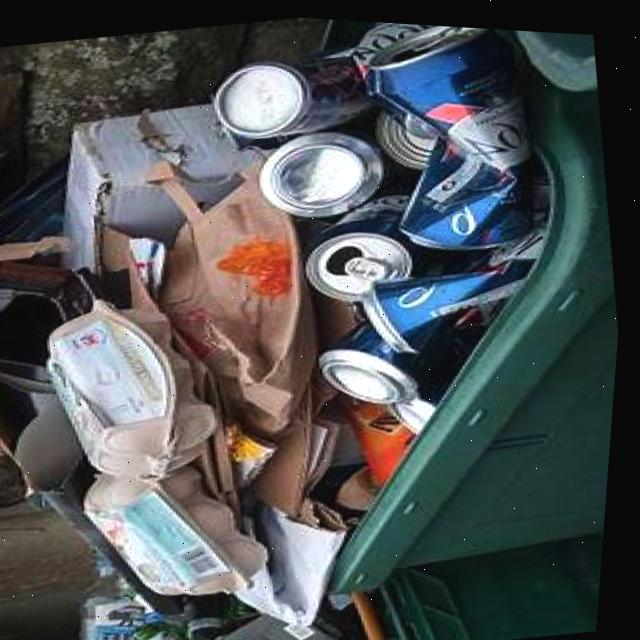Garbage: (0, 15, 560, 640)
can: (367, 20, 536, 243), (309, 189, 491, 296), (367, 251, 535, 347), (217, 52, 370, 134), (262, 126, 387, 212), (327, 319, 424, 398)
